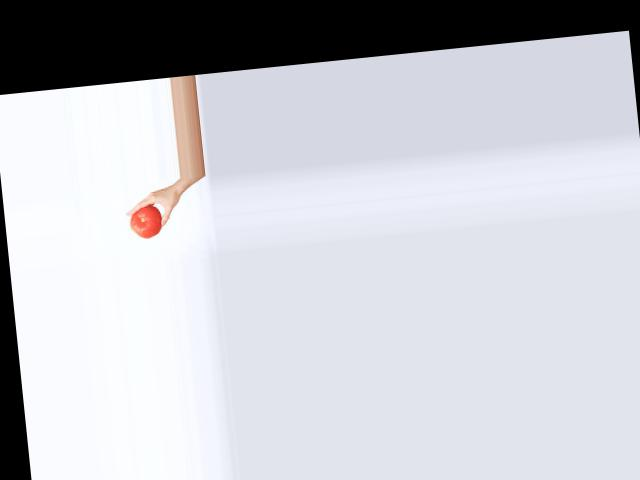tomato: (128, 205, 163, 239)
